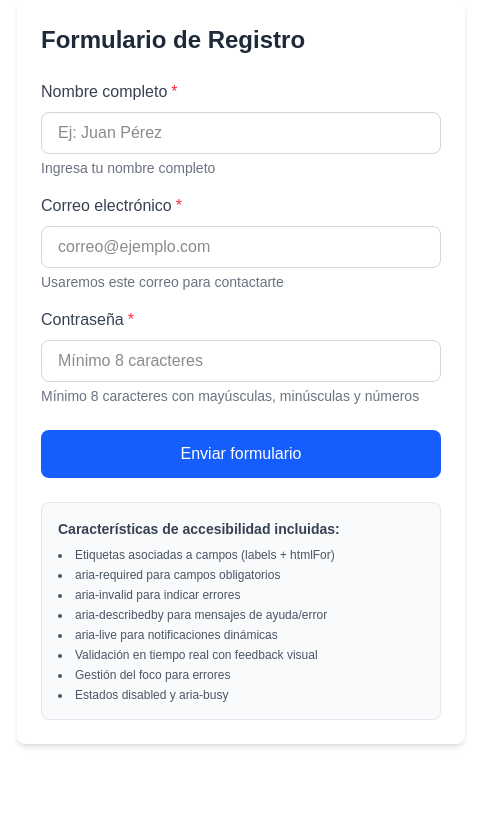
Test case: AccessibleForm › Envío del formulario › muestra mensaje de éxito después del envío
Type "Juan Pérez" into the field labelled "Nombre completo*" at (241,133), box [41, 112, 441, 154]
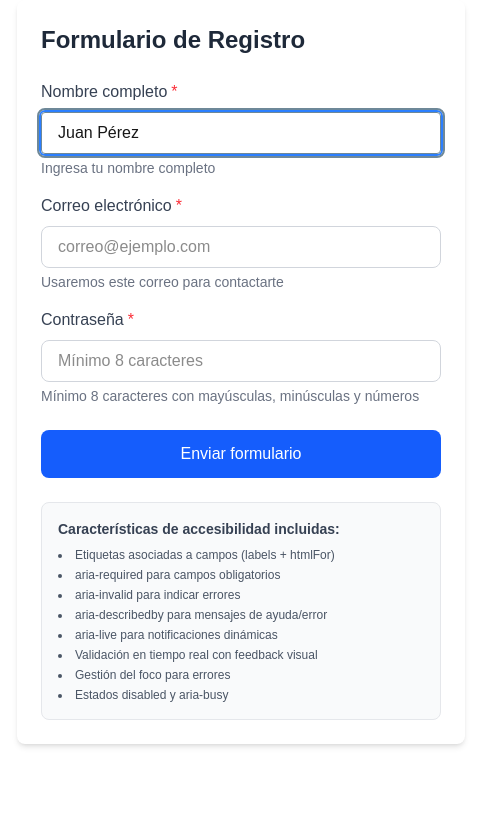
Type "juan@example.com" into the field labelled "Correo electrónico*" at (241,247), box [41, 226, 441, 268]
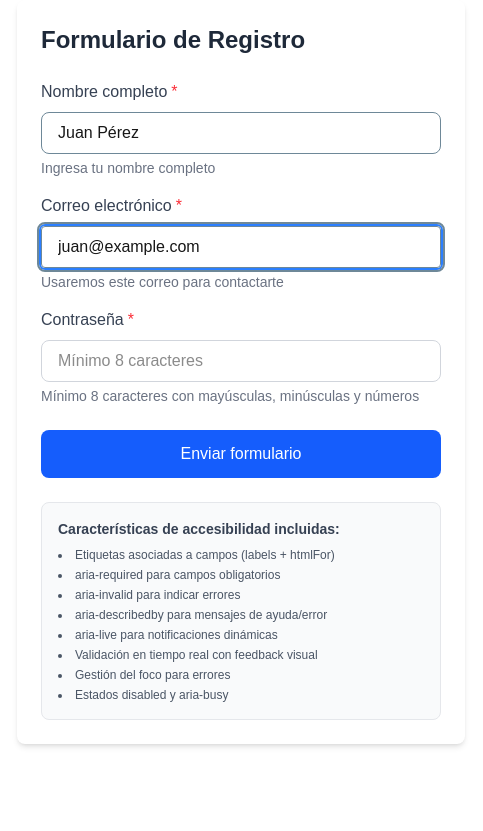
Type "Password123" into the password field labelled "Contraseña*" at (241,361), box [41, 340, 441, 382]
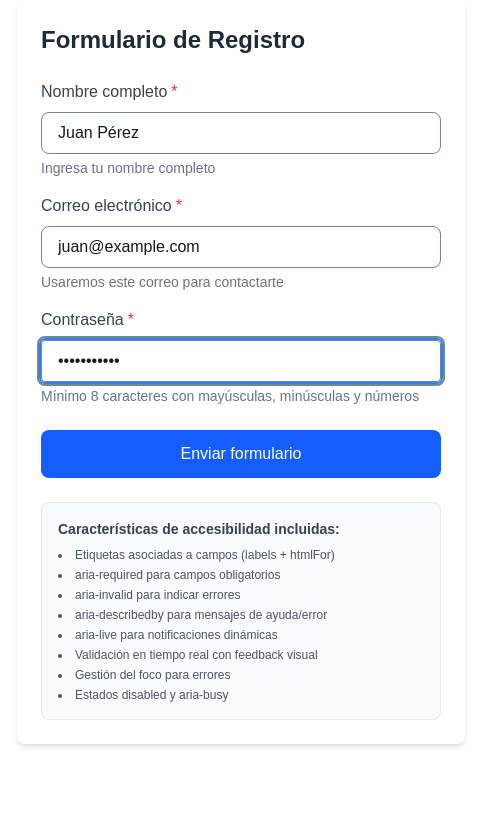
Click the button "Enviar formulario" at (241,454), box [41, 430, 441, 478]
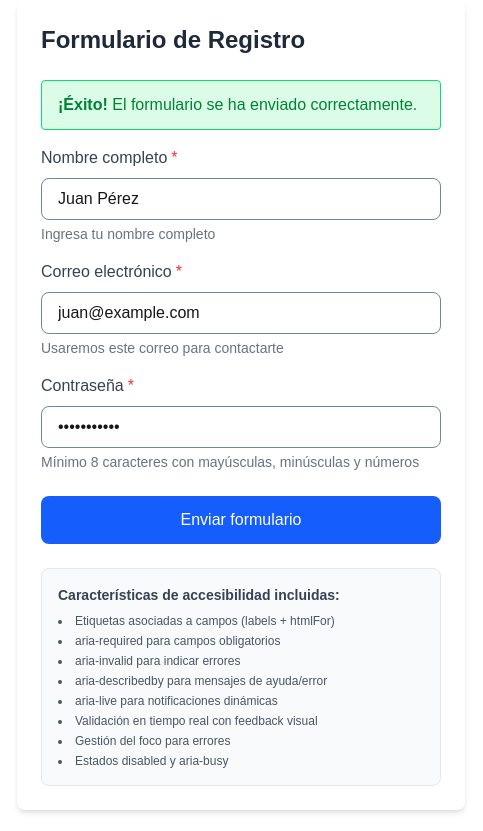
expect the text "¡Éxito!" is shown: met, box [58, 96, 112, 113]
